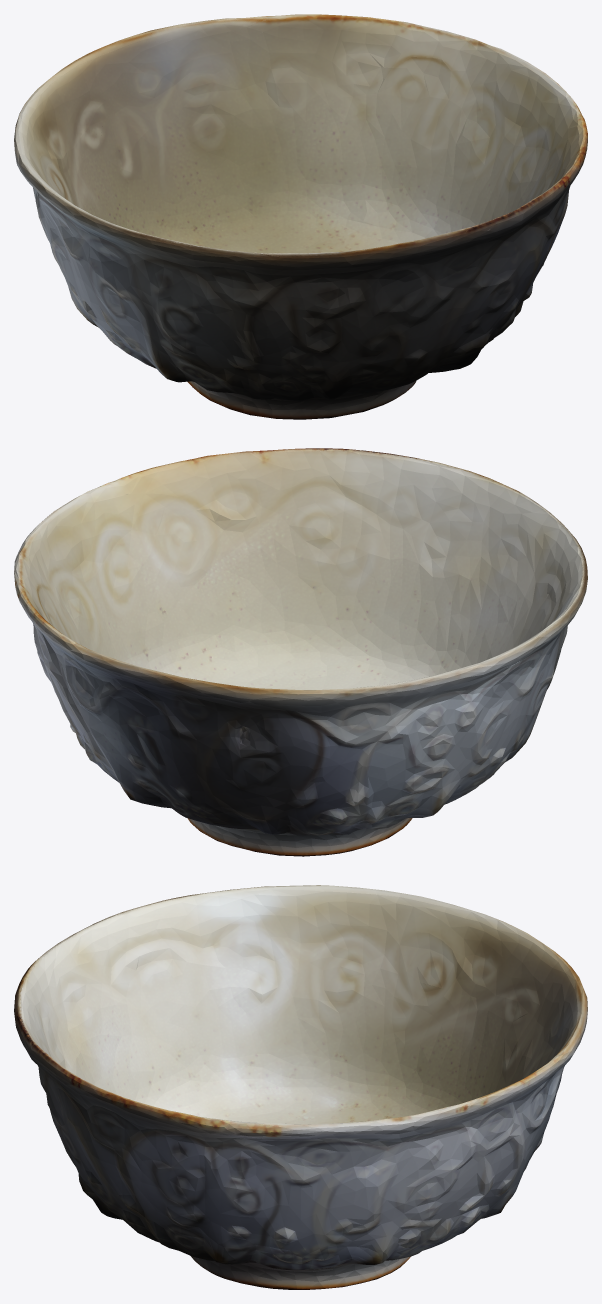
The model's file is porcelain-dainty-bowl-used-rustic-worn.jpeg.glb.
The picture shows the model from 3 angles, top to bottom: view 1: azimuth 30°, elevation 25°; view 2: azimuth 150°, elevation 25°; view 3: azimuth 270°, elevation 25°; orthographic projection.
Visible parts, largest first — view 1: world; view 2: world; view 3: world.
Part boxes in pixels (left/top/right/bottom): world: left=14, top=14, right=587, bottom=419; world: left=14, top=448, right=587, bottom=856; world: left=14, top=885, right=587, bottom=1289.
Bounding box in the file's own units: 0.9974 × 0.4624 × 0.9993.
1 material, 1 textured.
